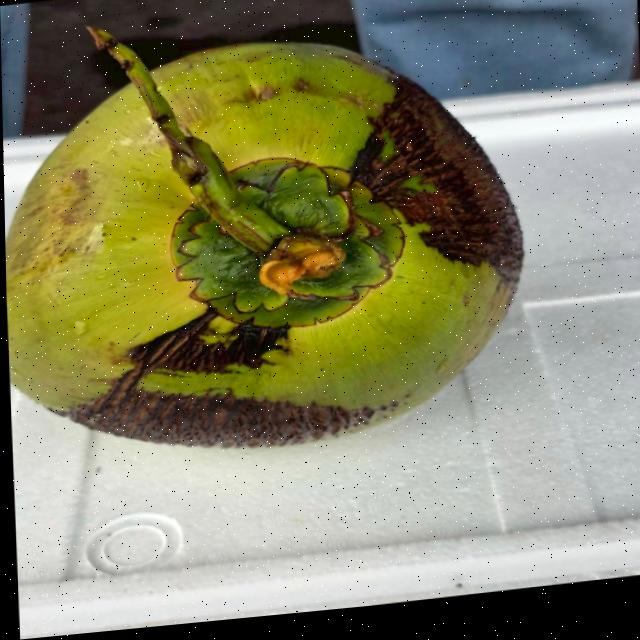coco_2.0: (115, 110, 454, 379)
